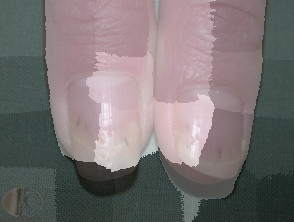Nail_psoriasis: (51, 56, 151, 187), (163, 65, 252, 186)
